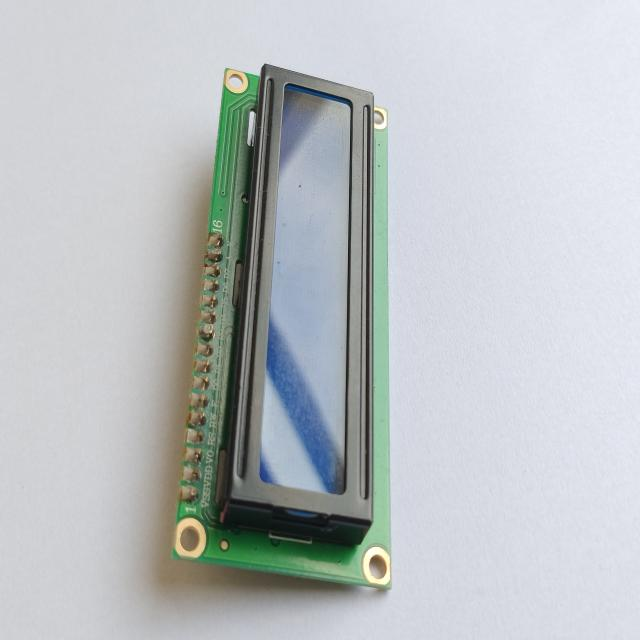lcd: (170, 62, 392, 590)
